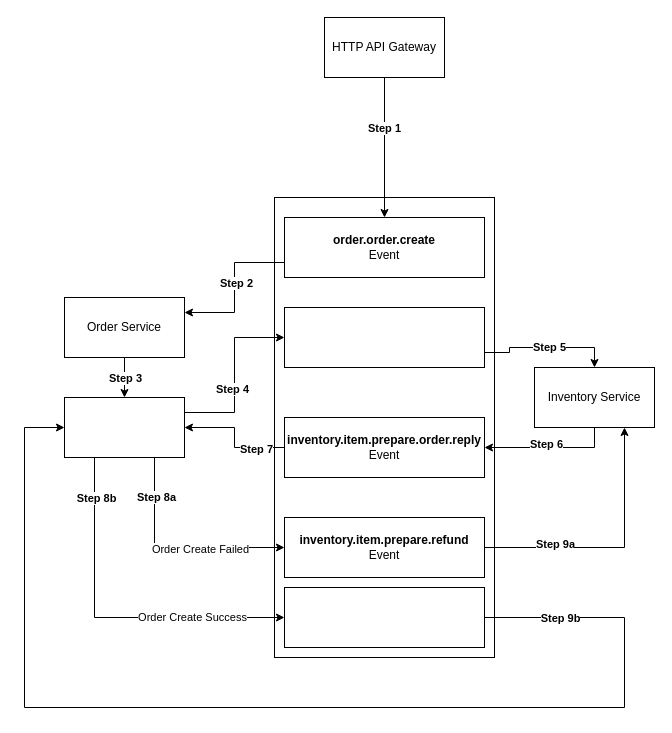
The diagram is 672 pixels wide and 733 high, and some of its shapes have lost their labels. Here are the shapes that lost their labels. From the top down, the centre of each, then its label:
At (384,337): "inventory.item.prepare.order Event".
At (124,427): "Order Service Orchestator".
At (384,617): "order.order.create.reply Event".
